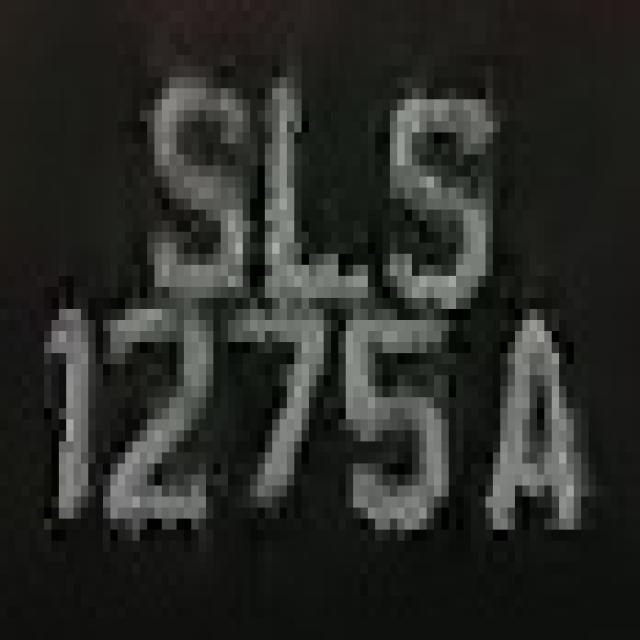1: (22, 276, 96, 530)
2: (88, 265, 221, 563)
5: (338, 276, 456, 552)
7: (198, 287, 338, 574)
A: (456, 276, 596, 585)
L: (228, 44, 383, 320)
S: (375, 44, 508, 331), (140, 22, 243, 331)
